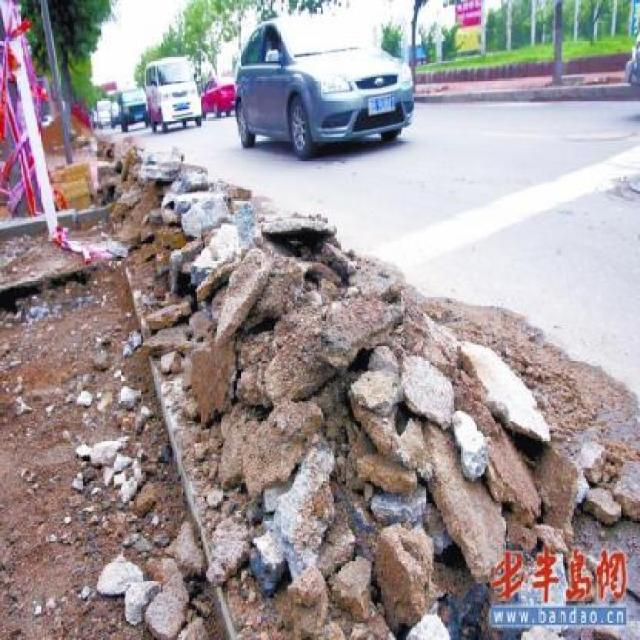garbage: (1, 145, 640, 637)
